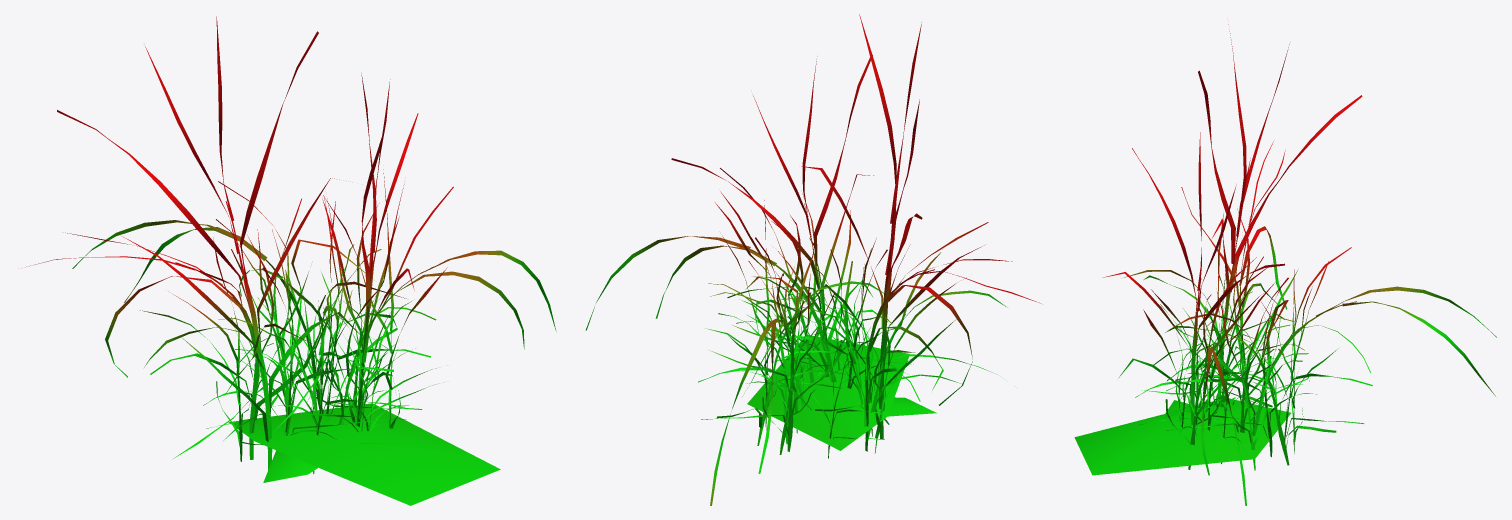
The model's file is Kikuyu Grass_LOD2_Var13_wiljearqx.fbx.
3 views of the same model, side by side, from view 1: azimuth 30°, elevation 25°; view 2: azimuth 150°, elevation 25°; view 3: azimuth 270°, elevation 25° (orthographic). The views are drawn at different scales.
Visible parts, largest first — view 1: _joh2_Var13_LOD2; view 2: _joh2_Var13_LOD2; view 3: _joh2_Var13_LOD2.
Boxes of the visible parts, left/top/right/bottom form: _joh2_Var13_LOD2: left=26, top=16, right=556, bottom=505; _joh2_Var13_LOD2: left=585, top=14, right=1041, bottom=505; _joh2_Var13_LOD2: left=1074, top=24, right=1496, bottom=505.
Bounding box in the file's own units: 56.52 × 48.64 × 47.33.
